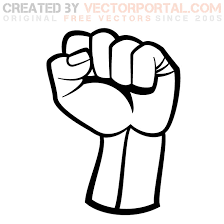fist: (48, 32, 183, 130)
